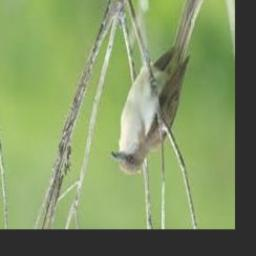Cuckoo: (111, 0, 207, 174)
